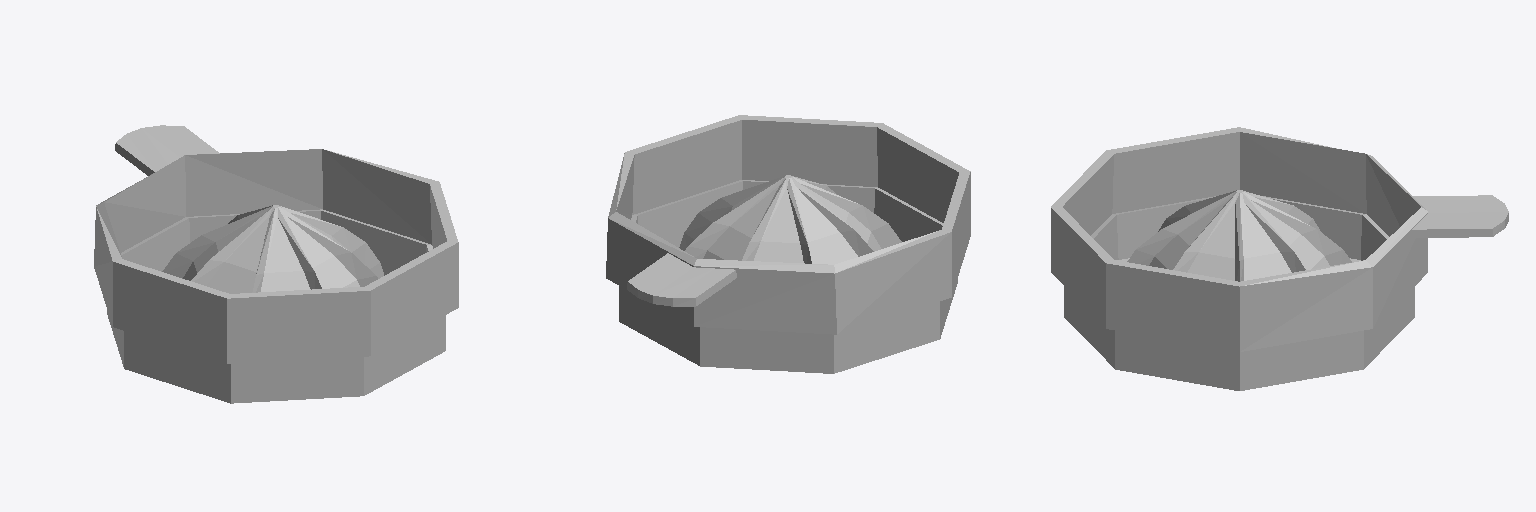
The model's file is juicer_manual.obj.
The picture shows the model from 3 angles: view 1: azimuth 30°, elevation 25°; view 2: azimuth 150°, elevation 25°; view 3: azimuth 270°, elevation 25°; orthographic projection.
Visible parts, largest first — view 1: juicer_manual_Cylinder.011; view 2: juicer_manual_Cylinder.011; view 3: juicer_manual_Cylinder.011.
Boxes of the visible parts, x1=… form: juicer_manual_Cylinder.011: x1=94, y1=125, x2=458, y2=403; juicer_manual_Cylinder.011: x1=606, y1=115, x2=970, y2=373; juicer_manual_Cylinder.011: x1=1051, y1=127, x2=1508, y2=390.
Bounding box in the file's own units: 1.88 × 0.7104 × 2.29.